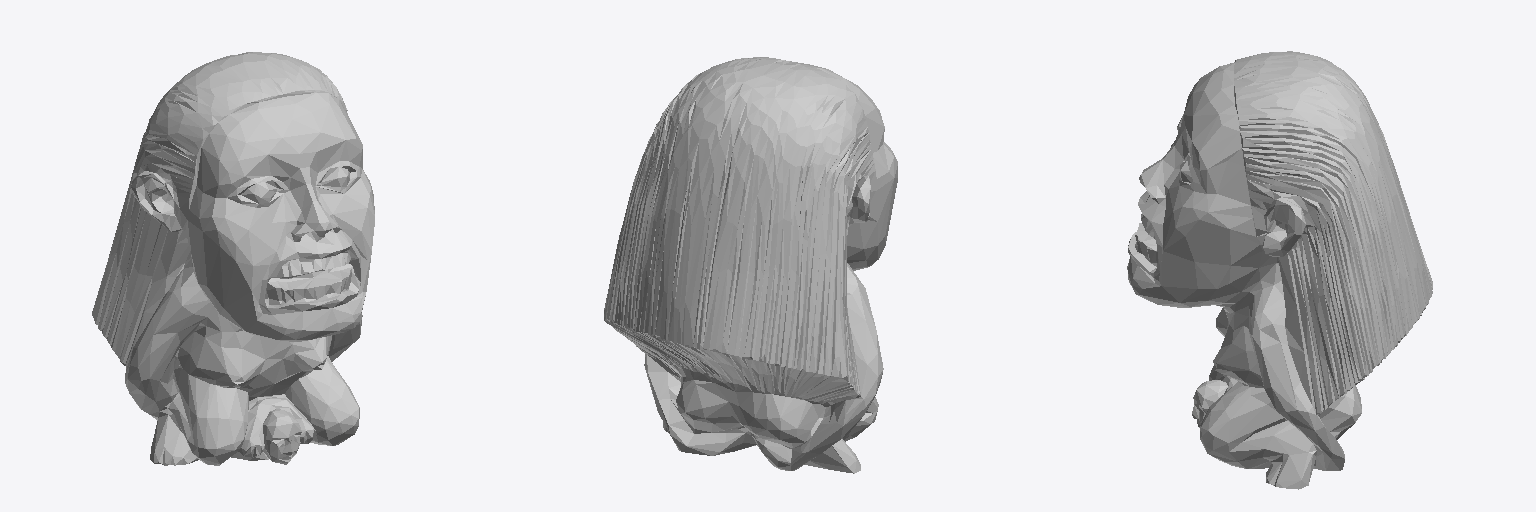
The model's file is idol.obj.
3 renders of one model, left to right at view 1: azimuth 30°, elevation 25°; view 2: azimuth 150°, elevation 25°; view 3: azimuth 270°, elevation 25°, orthographic.
Parts seen in each view (by area): view 1: idol; view 2: idol; view 3: idol.
Part boxes in pixels (bbox=[...]): idol: bbox=[92, 52, 374, 465]; idol: bbox=[604, 57, 897, 473]; idol: bbox=[1127, 51, 1432, 489].
Size of the model in its own units: 2.37 by 3.5 by 2.58.